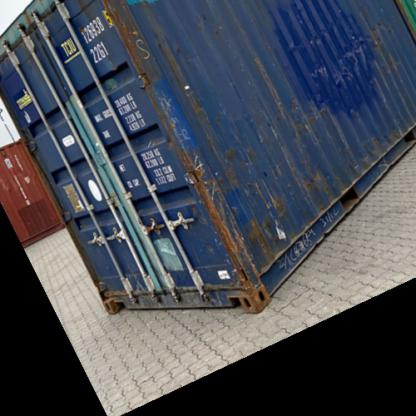Damage: (188, 149, 286, 282), (252, 45, 300, 128), (340, 24, 382, 72), (126, 23, 163, 76), (157, 89, 189, 141), (294, 160, 330, 194), (301, 25, 336, 54), (312, 62, 328, 88)
